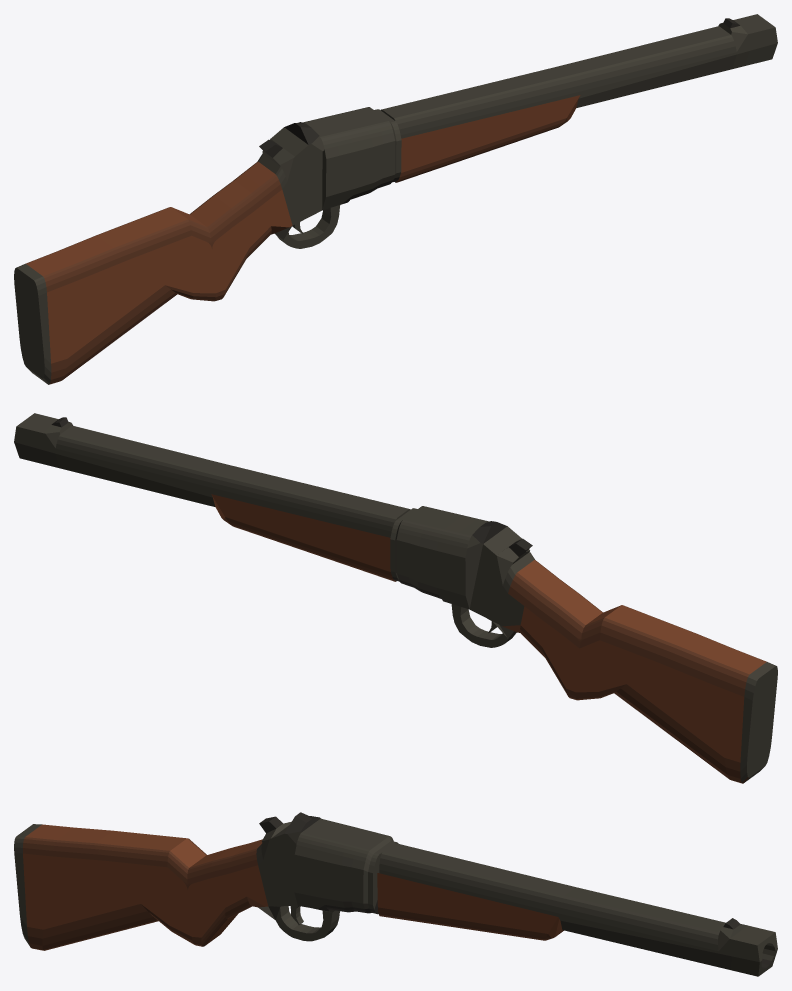
The model's file is Rifle.fbx.
The picture shows the model from 3 angles, top to bottom: view 1: azimuth 30°, elevation 25°; view 2: azimuth 150°, elevation 25°; view 3: azimuth 330°, elevation 25°; orthographic projection.
Parts seen in each view (by area): view 1: Rifle; view 2: Rifle; view 3: Rifle.
Part boxes in pixels (x1=…): Rifle: x1=14, y1=14, x2=777, y2=384; Rifle: x1=14, y1=413, x2=777, y2=783; Rifle: x1=14, y1=812, x2=777, y2=976.
Bounding box in the file's own units: 135 × 33.12 × 9.99.
